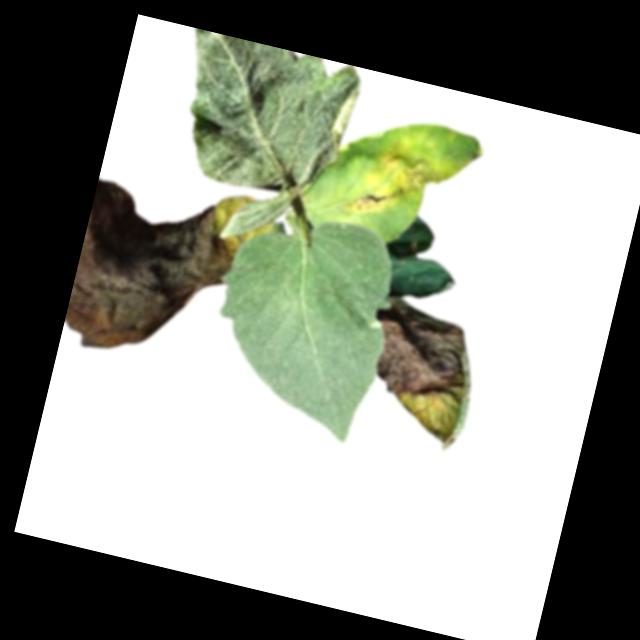Late_blight: (60, 175, 246, 377), (350, 291, 492, 455), (346, 134, 449, 229)
